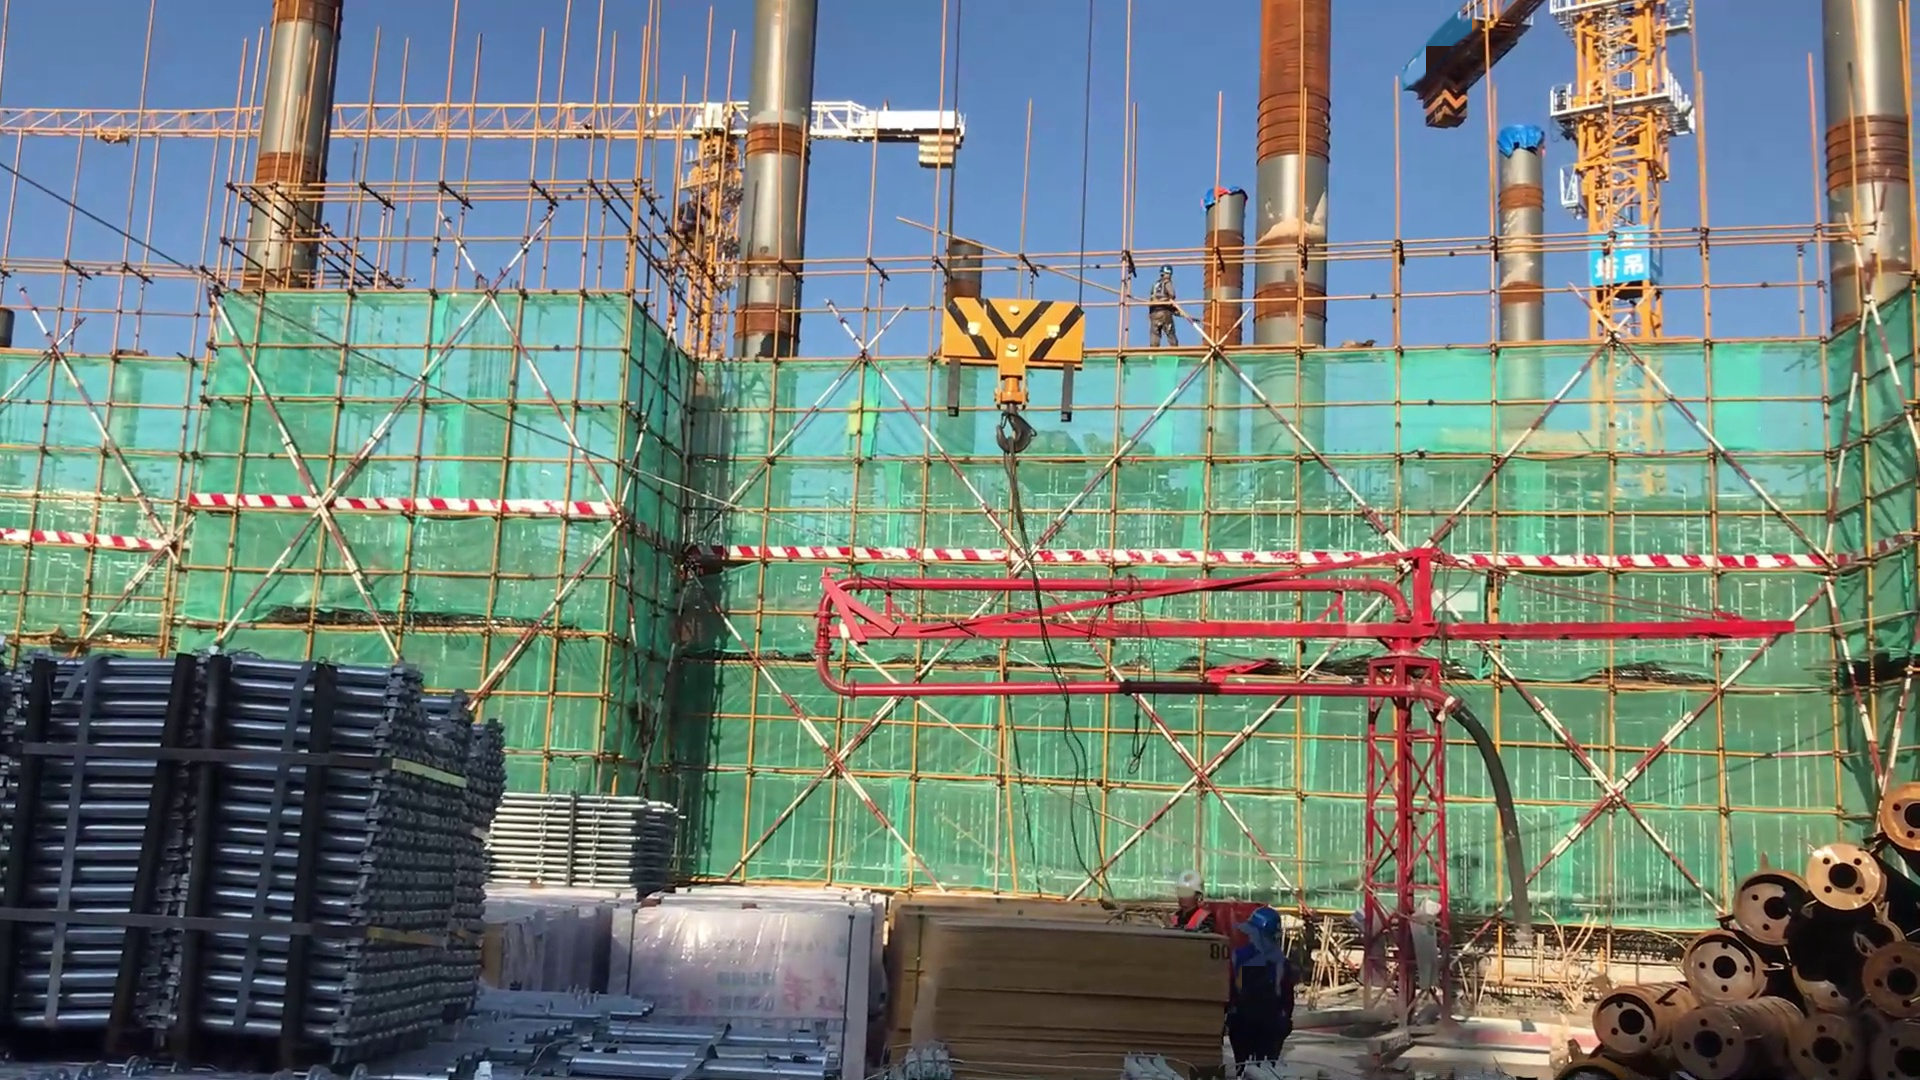board: (891, 894, 1222, 1080)
helmet: (1238, 903, 1286, 939), (1174, 870, 1205, 896), (1157, 262, 1174, 280)
hook: (926, 284, 1081, 464)
person: (1216, 902, 1311, 1080), (1093, 861, 1212, 943), (1141, 261, 1188, 364)
scaffold: (1, 660, 520, 1031), (438, 974, 858, 1080), (481, 789, 691, 902)
slogan: (1590, 235, 1661, 295)
vest: (1228, 946, 1298, 1022), (1165, 909, 1214, 937), (1149, 280, 1175, 313)
